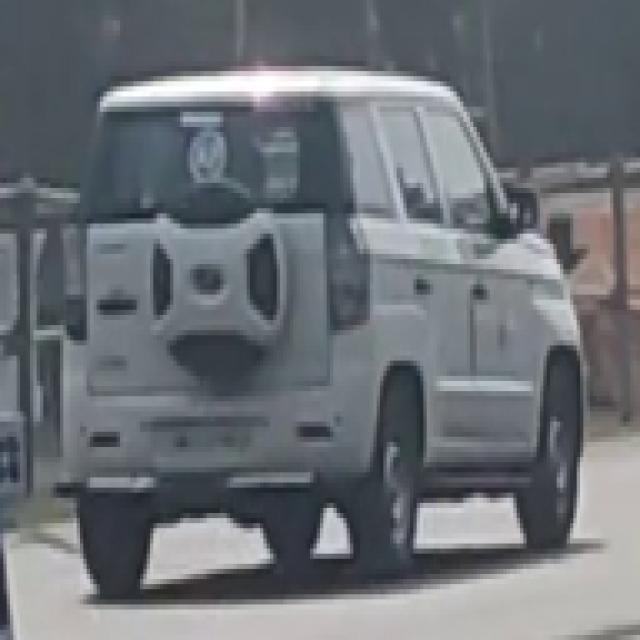car: (60, 66, 587, 594)
